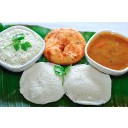idly: (64, 62, 112, 103), (21, 63, 65, 103)
